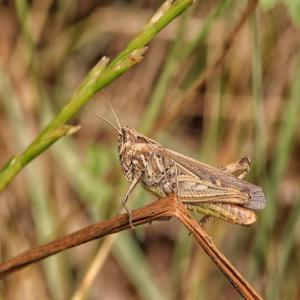locust: (96, 85, 262, 231)
